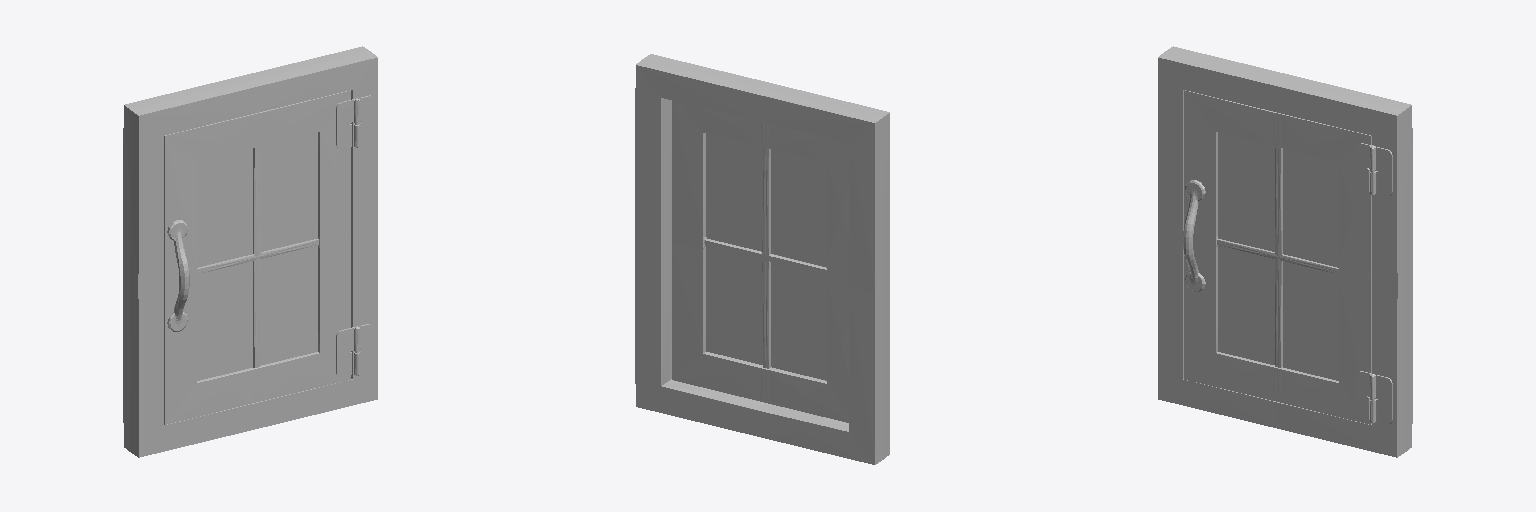
Rendered from window.obj.
3 views of the same model, side by side, from view 1: azimuth 30°, elevation 25°; view 2: azimuth 150°, elevation 25°; view 3: azimuth 330°, elevation 25° (orthographic).
Parts seen in each view (by area): view 1: rama, window, glass, petli, Petli, hand; view 2: rama, window, glass; view 3: rama, window, glass, Petli, petli, hand.
Part boxes in pixels (x1,y1,x2,y2): rama: (123, 46, 377, 457); window: (164, 90, 350, 424); glass: (197, 133, 317, 380); petli: (336, 324, 374, 377); Petli: (336, 95, 374, 149); hand: (167, 220, 189, 331); rama: (635, 54, 889, 464); window: (672, 101, 848, 422); glass: (706, 133, 826, 380); rama: (1158, 46, 1412, 457); window: (1184, 90, 1371, 424); glass: (1218, 133, 1338, 380); Petli: (1354, 143, 1392, 195); petli: (1354, 371, 1392, 423); hand: (1183, 180, 1205, 291).
Bounding box in the file's own units: 1.01 × 1.38 × 0.1846.